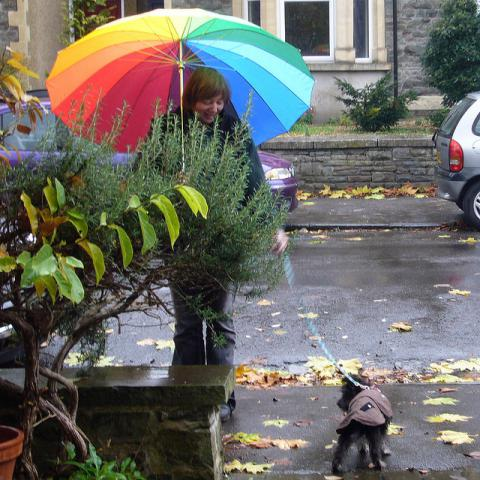car: (431, 83, 479, 231), (256, 148, 299, 212)
